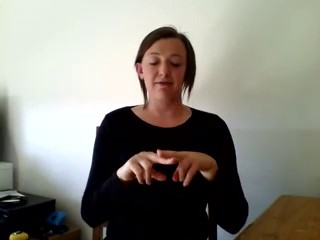F: (123, 146, 211, 190)
